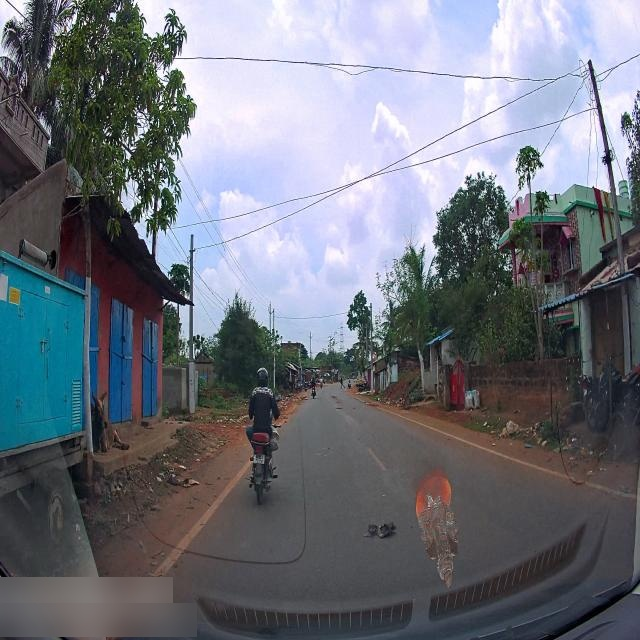pothole: (334, 404, 344, 412)
